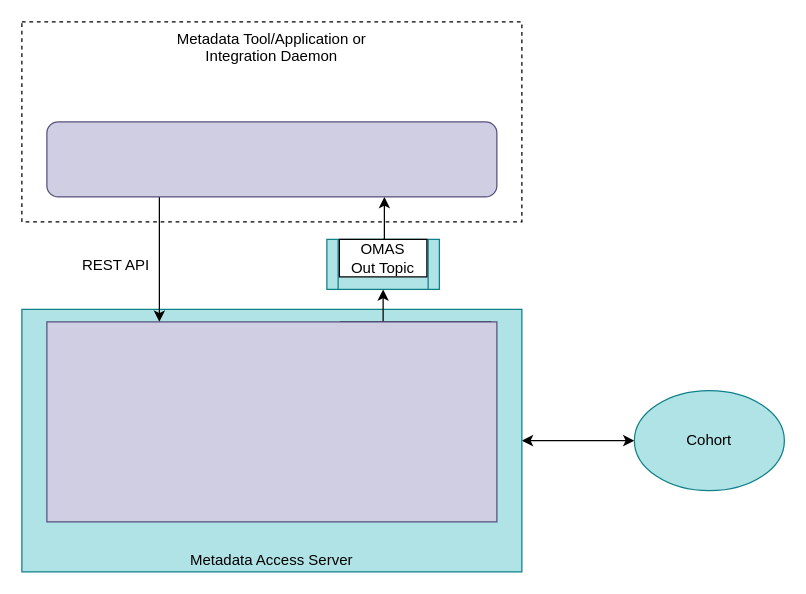
The diagram is 806 pixels wide and 594 high, and some of its shapes have lost their labels. The centre of each missing label's shape, as x and y in pixels:
"Asset Manager OMAS Java Client" goes at [271,159].
"Asset Manager OMAS Server Side" goes at [271,421].
